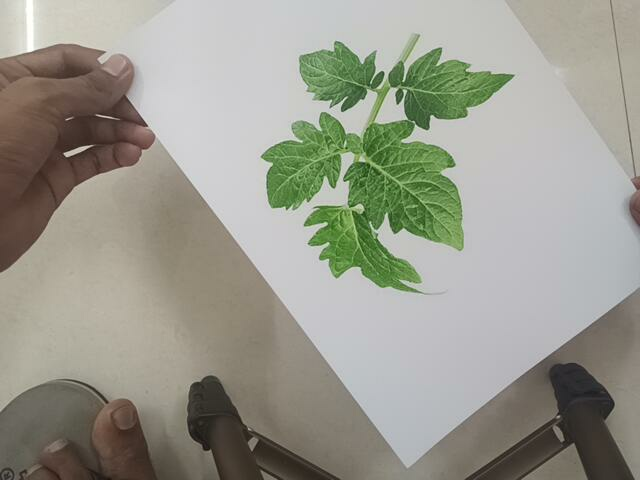Tomamto_Leaf_Healthy: (247, 16, 539, 302)
